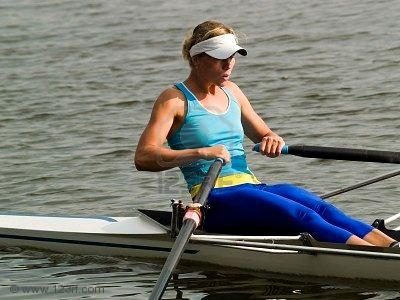person: (133, 19, 400, 250)
